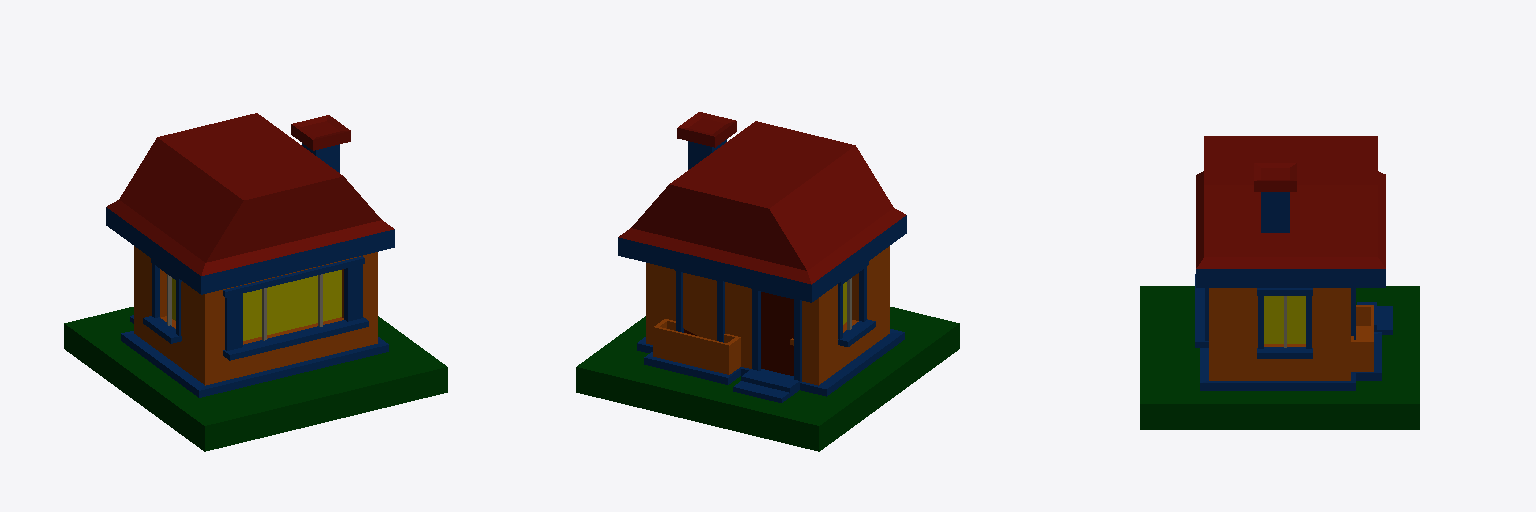
Rendered from BlockHouse3.obj.
The picture shows the model from 3 angles: view 1: azimuth 30°, elevation 25°; view 2: azimuth 150°, elevation 25°; view 3: azimuth 270°, elevation 25°; orthographic projection.
Parts seen in each view (by area): view 1: Cube.006, Cube.001, Cube, Cube.012, Cube.007, Cube.009; view 2: Cube.006, Cube, Cube.001, Cube.004, Cube.007, Cube.009, Cube.002_Cube.014; view 3: Cube.006, Cube.001, Cube, Cube.007, Cube.009, Cube.012, Cube.004.
Part boxes in pixels (x1,y1,x2,y2): Cube.006: (106,113,394,294); Cube.001: (64,307,447,451); Cube: (121,246,388,397); Cube.012: (223,256,368,360); Cube.007: (291,115,350,172); Cube.009: (143,259,181,343); Cube.006: (618,121,906,302); Cube: (637,246,904,396); Cube.001: (576,307,959,451); Cube.004: (733,288,801,402); Cube.007: (677,112,736,169); Cube.009: (838,261,875,346); Cube.002_Cube.014: (675,270,724,342); Cube.006: (1196,136,1385,287); Cube.001: (1140,286,1419,429); Cube: (1200,288,1381,390); Cube.007: (1254,163,1296,232); Cube.009: (1257,288,1312,358); Cube.012: (1195,274,1208,347); Cube.004: (1357,302,1392,334).
Bounding box in the file's own units: 19.78 × 17.86 × 19.78.